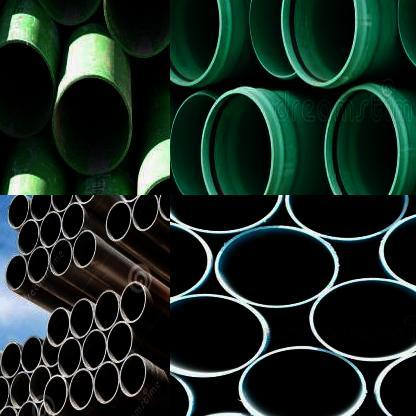pipe: (214, 226, 340, 309), (308, 277, 416, 362), (238, 345, 366, 416), (170, 292, 269, 378), (323, 86, 400, 195), (52, 73, 132, 176), (200, 90, 274, 195), (280, 0, 358, 88), (284, 195, 408, 240), (0, 40, 56, 138), (170, 91, 215, 195), (170, 0, 222, 87), (170, 195, 282, 234), (248, 0, 299, 78), (103, 0, 170, 57), (170, 220, 213, 302), (379, 210, 416, 293), (373, 348, 416, 416), (32, 0, 106, 25), (397, 0, 416, 75), (119, 353, 146, 397), (107, 320, 133, 364), (93, 360, 119, 404), (119, 281, 146, 323), (81, 328, 107, 370), (68, 368, 94, 410), (94, 289, 119, 332), (57, 336, 82, 378), (43, 374, 68, 416), (106, 201, 132, 241), (69, 298, 94, 338), (131, 195, 158, 232), (47, 307, 70, 347), (72, 230, 96, 268), (29, 364, 51, 403), (50, 238, 72, 276), (20, 335, 42, 373), (40, 211, 62, 248), (28, 246, 50, 283), (5, 254, 27, 290), (0, 342, 21, 378), (18, 220, 38, 256), (7, 195, 28, 229), (30, 195, 52, 221), (42, 336, 58, 368), (52, 195, 74, 212), (16, 400, 38, 416), (0, 376, 9, 413), (38, 401, 60, 416), (159, 195, 170, 221), (74, 195, 98, 204), (118, 195, 143, 203), (0, 405, 16, 416)
